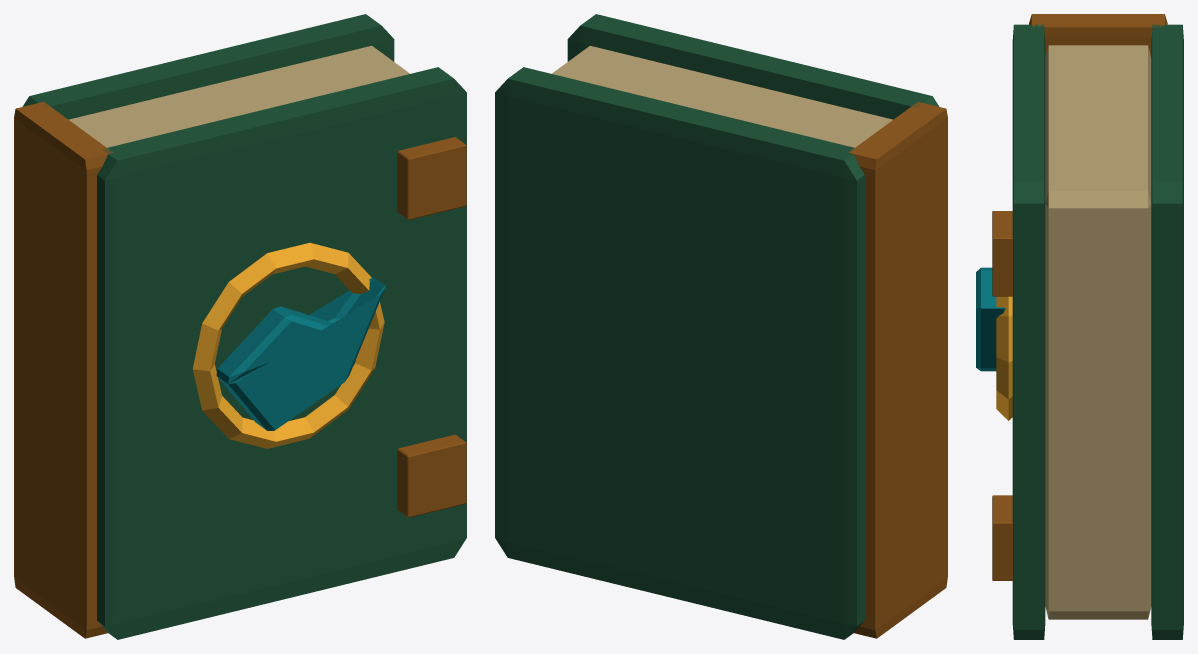
File: tome_wind_blade.obj
The picture shows the model from 3 angles, left to right: view 1: azimuth 30°, elevation 25°; view 2: azimuth 150°, elevation 25°; view 3: azimuth 270°, elevation 25°; orthographic projection. The views are drawn at different scales.
Parts seen in each view (by area): view 1: Tome_CoverFront.001_MAT_ClothGreen, Tome_Spine.001_MAT_OldGold, Tome_WindMark.001_MAT_Teal, Tome_Pages.001_MAT_Paper, Tome_CoverBack.001_MAT_ClothGreen, Tome_Emblem.001_MAT_BrightGold, Tome_Corner-0.001_MAT_OldGold, Tome_Corner0.001_MAT_OldGold; view 2: Tome_CoverBack.001_MAT_ClothGreen, Tome_Spine.001_MAT_OldGold, Tome_Pages.001_MAT_Paper, Tome_CoverFront.001_MAT_ClothGreen; view 3: Tome_Pages.001_MAT_Paper, Tome_CoverFront.001_MAT_ClothGreen, Tome_CoverBack.001_MAT_ClothGreen, Tome_Spine.001_MAT_OldGold, Tome_WindMark.001_MAT_Teal, Tome_Emblem.001_MAT_BrightGold, Tome_Corner-0.001_MAT_OldGold, Tome_Corner0.001_MAT_OldGold.
Part boxes in pixels (bbox=[...]): Tome_CoverFront.001_MAT_ClothGreen: bbox=[97, 67, 466, 639]; Tome_Spine.001_MAT_OldGold: bbox=[14, 101, 112, 638]; Tome_WindMark.001_MAT_Teal: bbox=[216, 277, 385, 430]; Tome_Pages.001_MAT_Paper: bbox=[69, 45, 409, 147]; Tome_CoverBack.001_MAT_ClothGreen: bbox=[22, 14, 394, 119]; Tome_Emblem.001_MAT_BrightGold: bbox=[192, 242, 384, 448]; Tome_Corner-0.001_MAT_OldGold: bbox=[397, 434, 466, 517]; Tome_Corner0.001_MAT_OldGold: bbox=[397, 137, 466, 219]; Tome_CoverBack.001_MAT_ClothGreen: bbox=[495, 67, 864, 639]; Tome_Spine.001_MAT_OldGold: bbox=[849, 102, 947, 638]; Tome_Pages.001_MAT_Paper: bbox=[552, 45, 892, 147]; Tome_CoverFront.001_MAT_ClothGreen: bbox=[567, 14, 939, 119]; Tome_Pages.001_MAT_Paper: bbox=[1045, 45, 1151, 619]; Tome_CoverFront.001_MAT_ClothGreen: bbox=[1012, 24, 1045, 639]; Tome_CoverBack.001_MAT_ClothGreen: bbox=[1151, 24, 1183, 639]; Tome_Spine.001_MAT_OldGold: bbox=[1029, 14, 1167, 56]; Tome_WindMark.001_MAT_Teal: bbox=[976, 267, 1005, 371]; Tome_Emblem.001_MAT_BrightGold: bbox=[996, 296, 1012, 420]; Tome_Corner-0.001_MAT_OldGold: bbox=[992, 495, 1012, 580]; Tome_Corner0.001_MAT_OldGold: bbox=[992, 211, 1012, 296].
Bounding box in the file's own units: 2.02 × 2.48 × 1.02.
